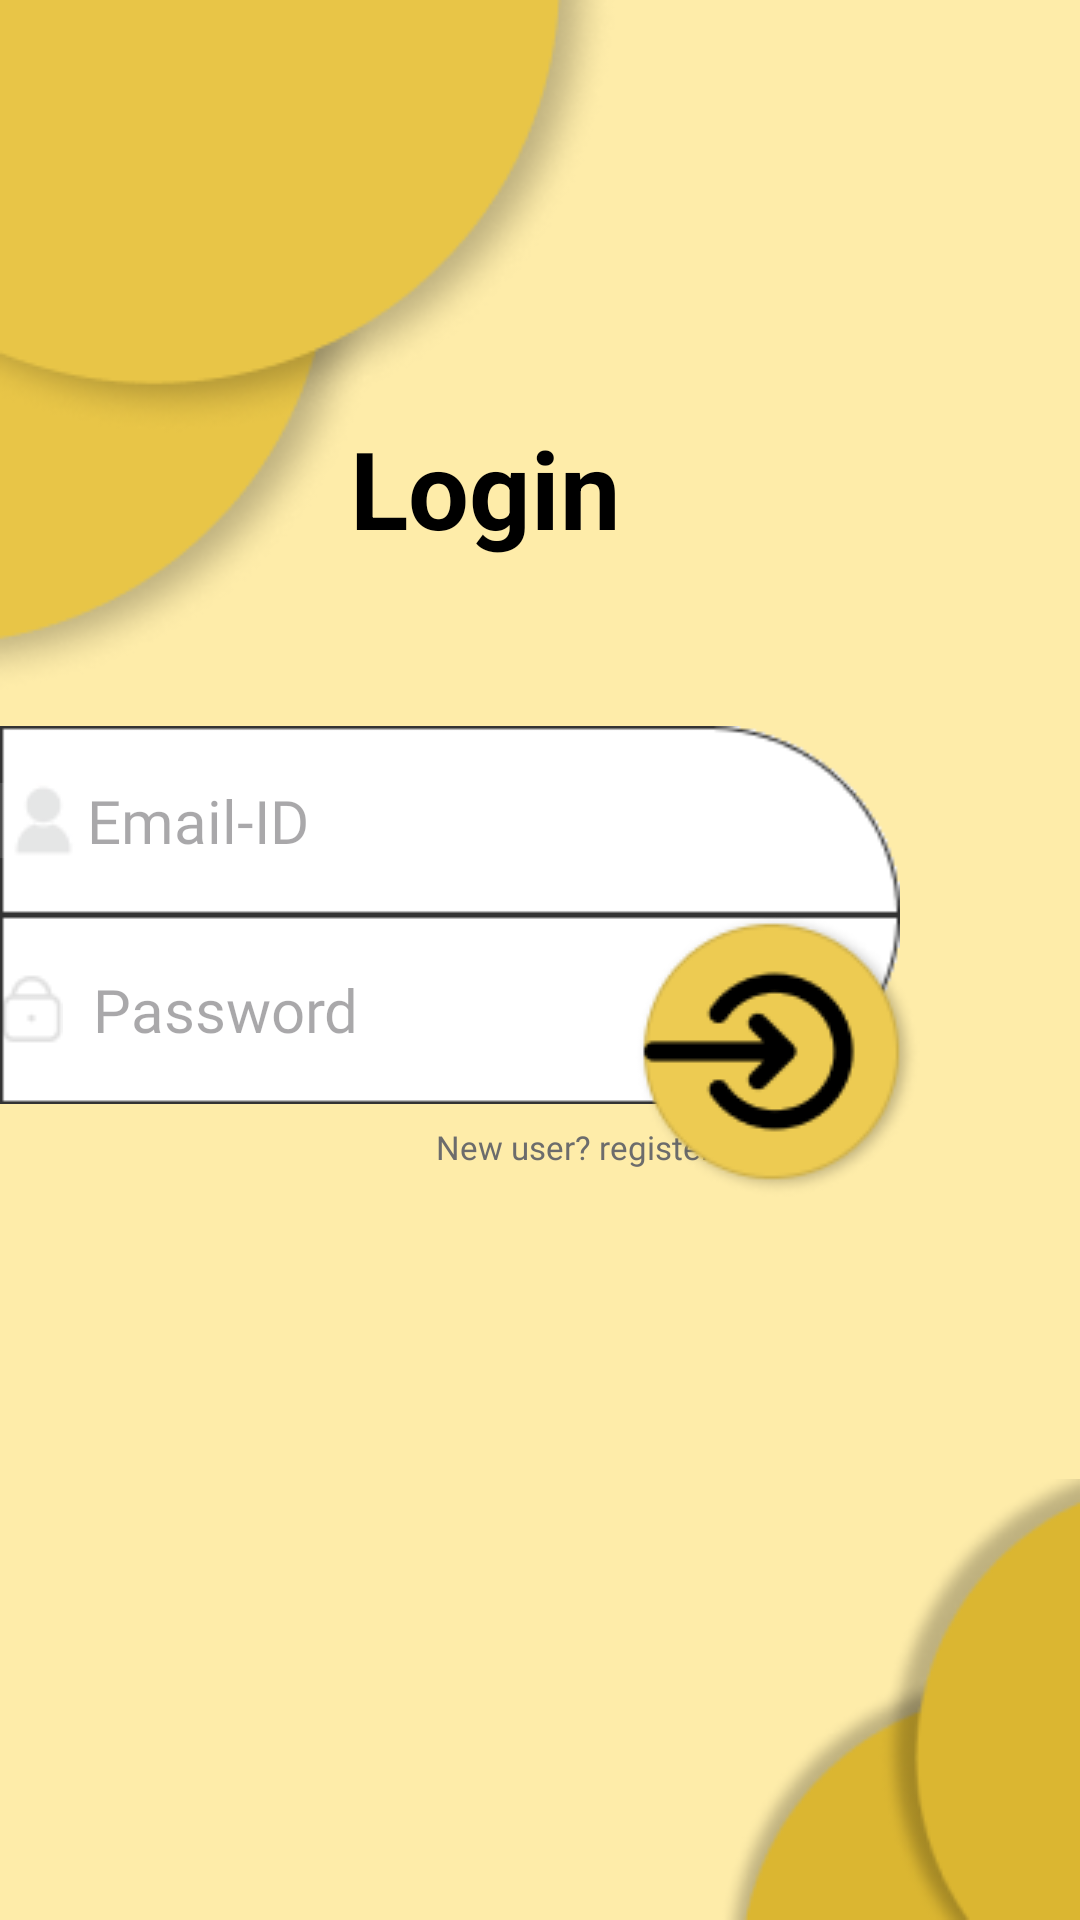

Screen size 1080×1920. Icon name, then its box in pixels as [x1=x1, y1=y1, x2=x2, y2=y2]:
Login Button: [x1=599, y1=882, x2=907, y2=1184]
